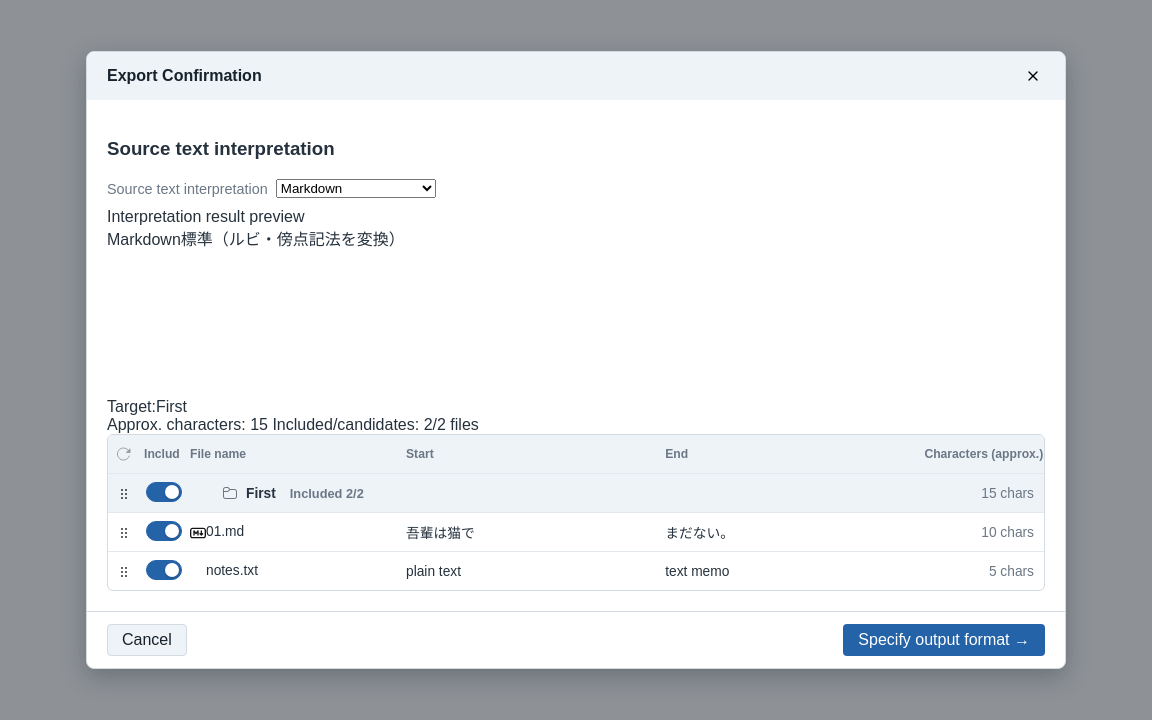
ExportConfirmationDialog (#523) › navigates through all 4 wizard steps and allows reconfiguring (#523 Slice 10)
This screenshot has width=1152, height=720.
expect the dropdown labelled "Source text interpretation" is shown: met, box [276,179,436,198]
Click the button "Specify output format →" at (944, 640), box [843,624,1045,656]
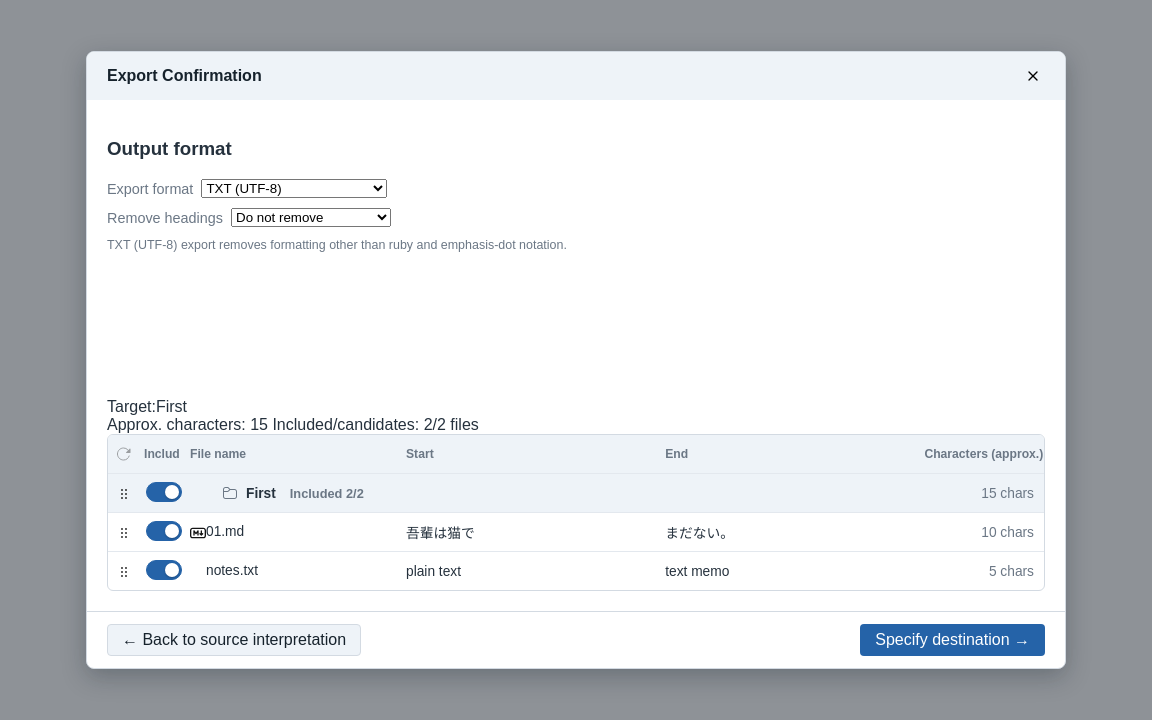
expect the dropdown labelled "Export format" is shown: met, box [201,179,387,198]
Click the button "Specify destination →" at (953, 640), box [860,624,1045,656]
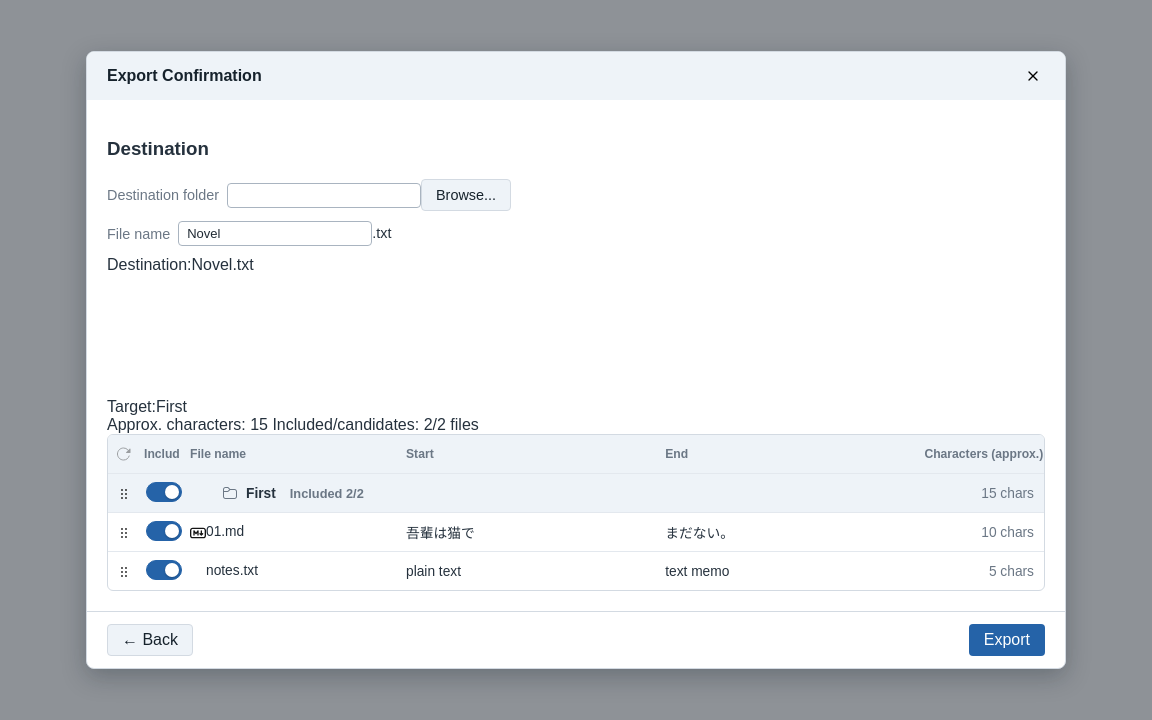
expect the field labelled "File name .txt" is shown: met, box [178,221,372,246]
Click the button "Export" at (1007, 640), box [969,624,1045,656]
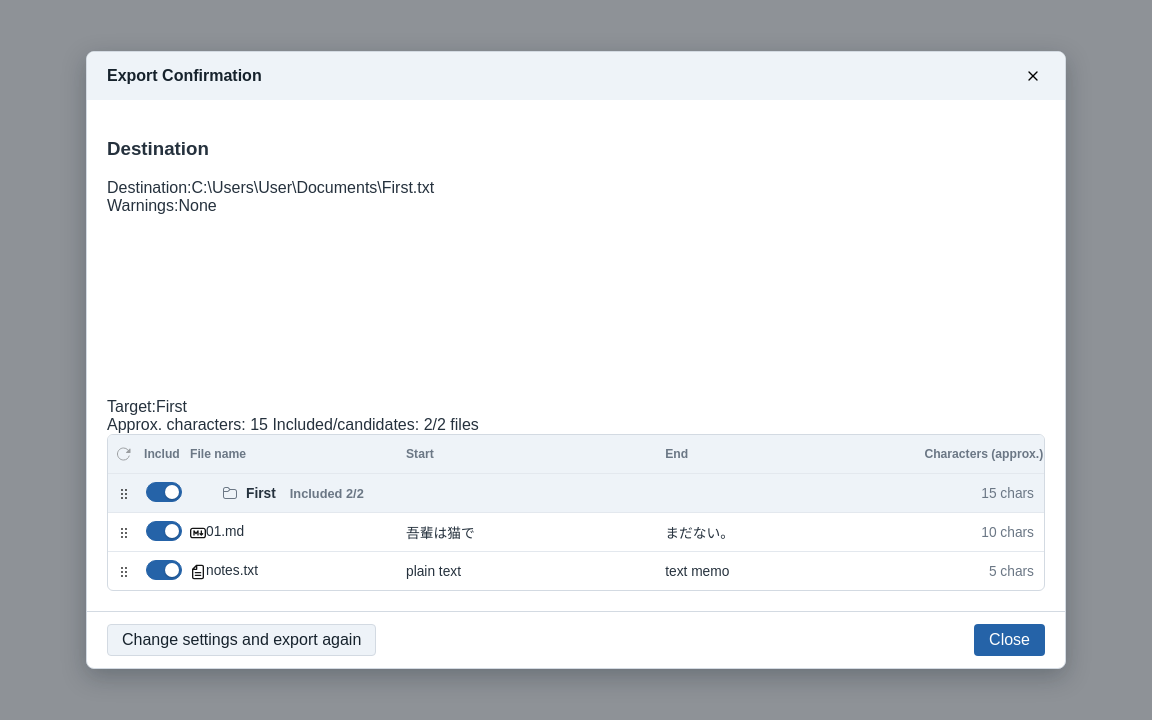
expect the text "C:\\Users\\User\\Documents\\First.txt" is shown: met, box [192,179,434,196]
Click the button "Change settings and export again" at (242, 640), box [107,624,376,656]
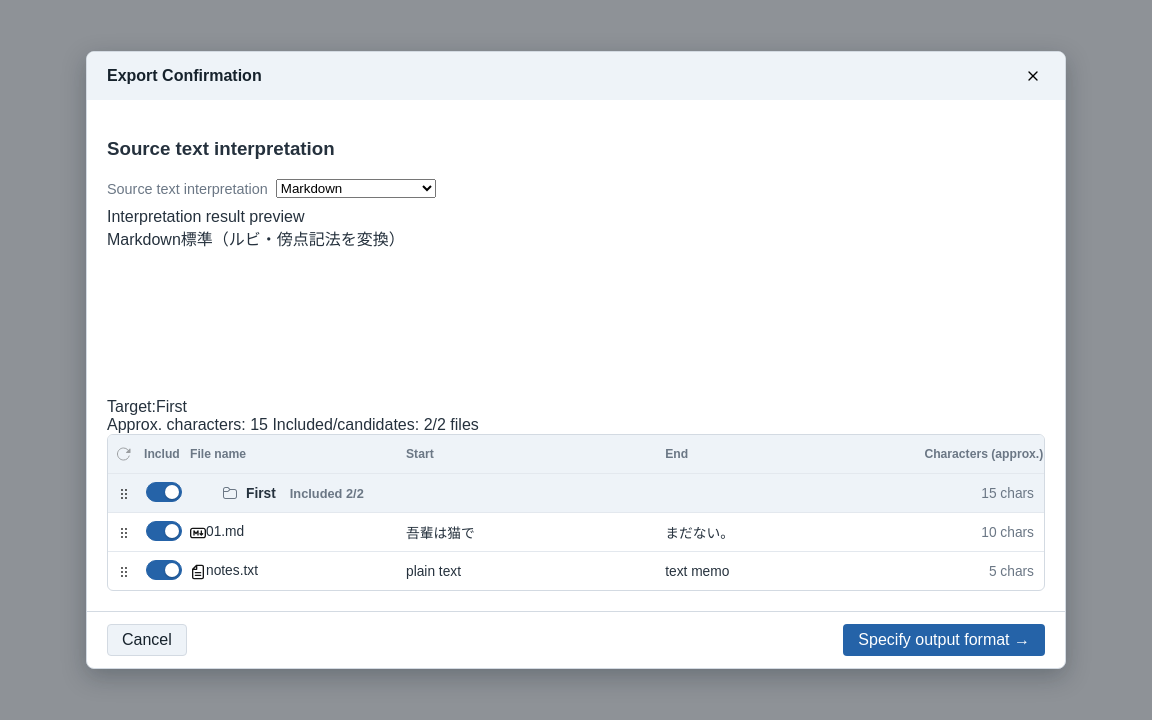
expect the dropdown labelled "Source text interpretation" is shown: met, box [276,179,436,198]
